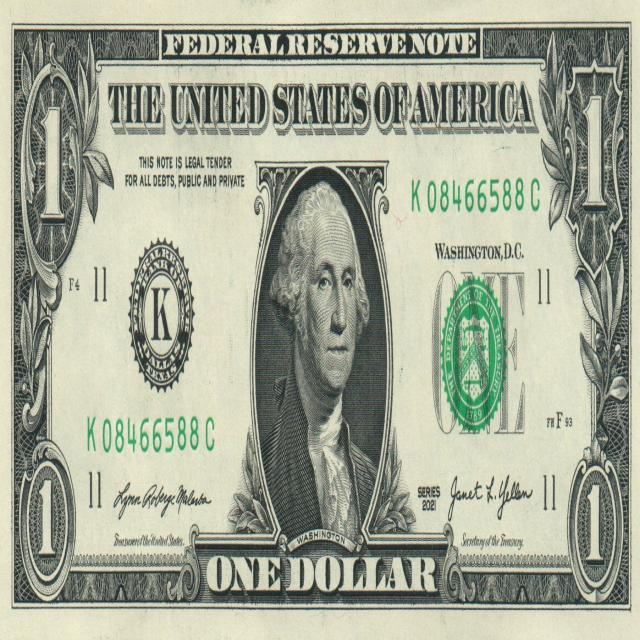SerialNumber: (88, 416, 214, 453), (412, 178, 539, 213)
